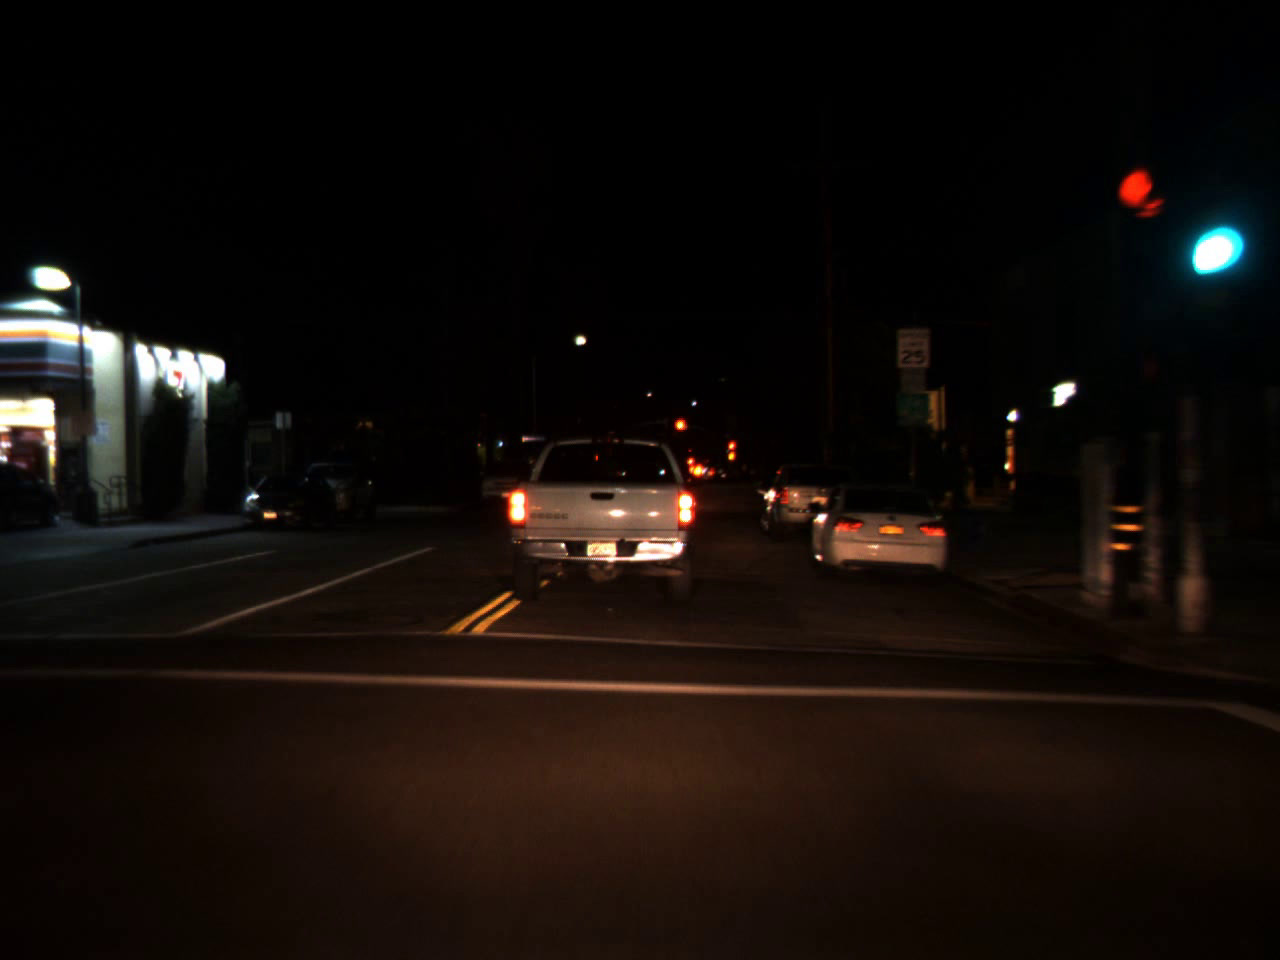go: (1185, 196, 1235, 280)
stop: (672, 417, 688, 444), (727, 440, 736, 458)
